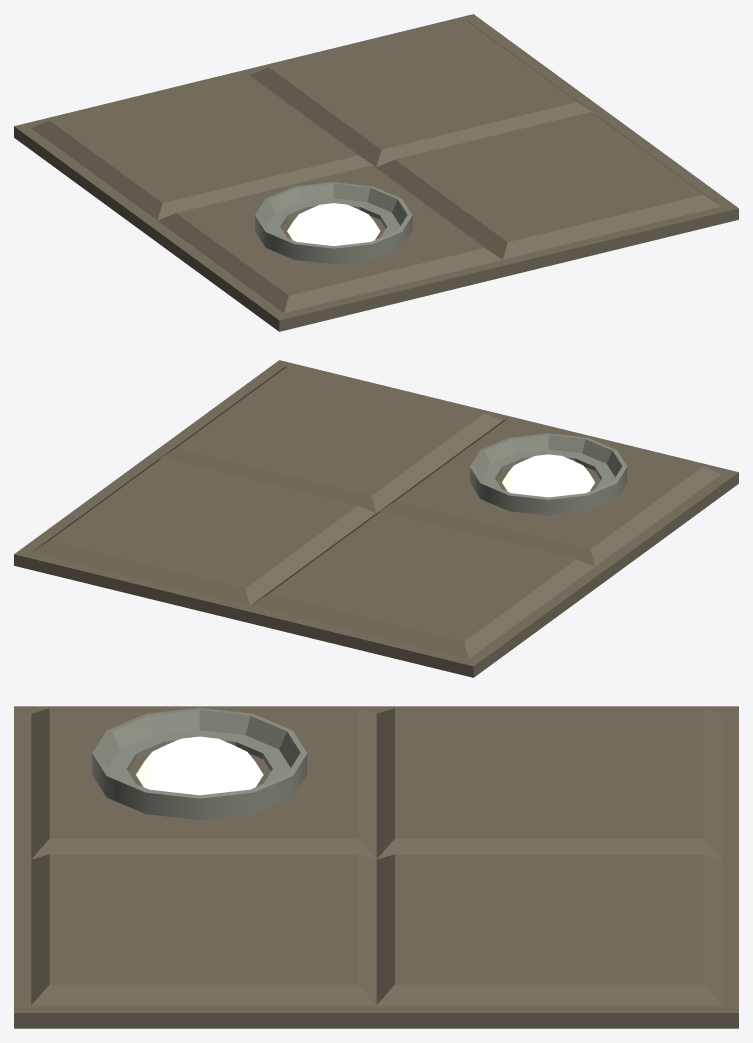
The model's file is SM_roof_tile_04.fbx.
3 views of the same model, one above another, from view 1: azimuth 30°, elevation 25°; view 2: azimuth 150°, elevation 25°; view 3: azimuth 270°, elevation 25° (orthographic). The views are drawn at different scales.
Visible parts, largest first — view 1: roof_tile_04; view 2: roof_tile_04; view 3: roof_tile_04.
Boxes of the visible parts, box(x1,y1,x2,y2) form: roof_tile_04: box(14, 14, 738, 331); roof_tile_04: box(14, 360, 738, 677); roof_tile_04: box(14, 706, 738, 1028).
Bounding box in the file's own units: 210 × 18.39 × 210.
